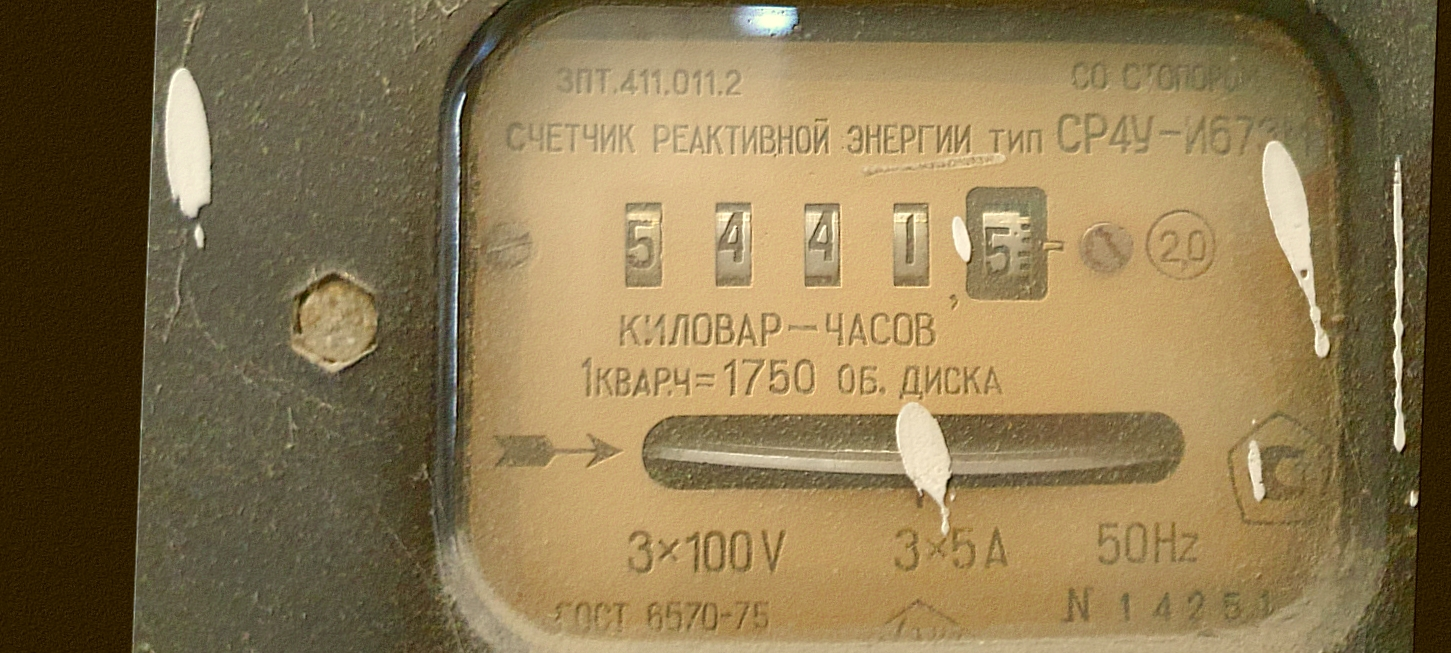1: (896, 210, 922, 269)
4: (802, 203, 841, 270), (713, 205, 751, 268)
5: (980, 220, 1017, 284), (621, 216, 661, 274)
screen: (597, 149, 1076, 332)
